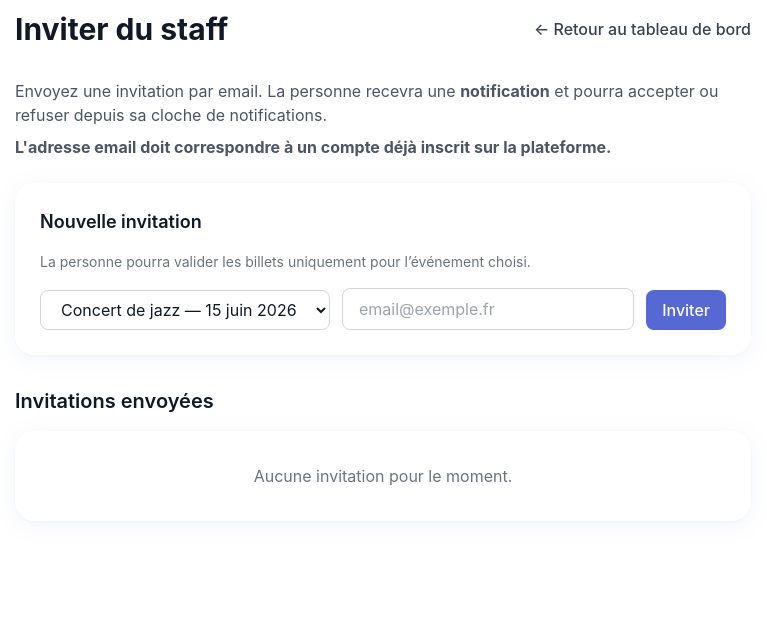
Test case: StaffInvitationsPage - form › pre-selects the first organizer event and submits a new invitation
The image size is (767, 629).
Check: the dropdown named "Événement concerné" is shown, box 40,290 -> 330,330
Type "staff@example.com" into the field named "Adresse email de la personne à inviter" at x=488, y=309, box 342,288 -> 634,330
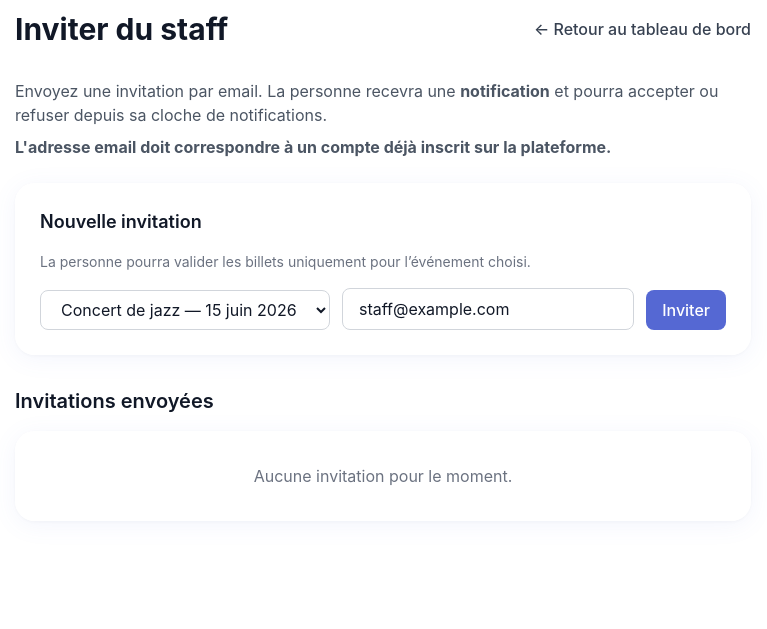
Click the button "Inviter" at x=686, y=310, box 646,290 -> 726,330
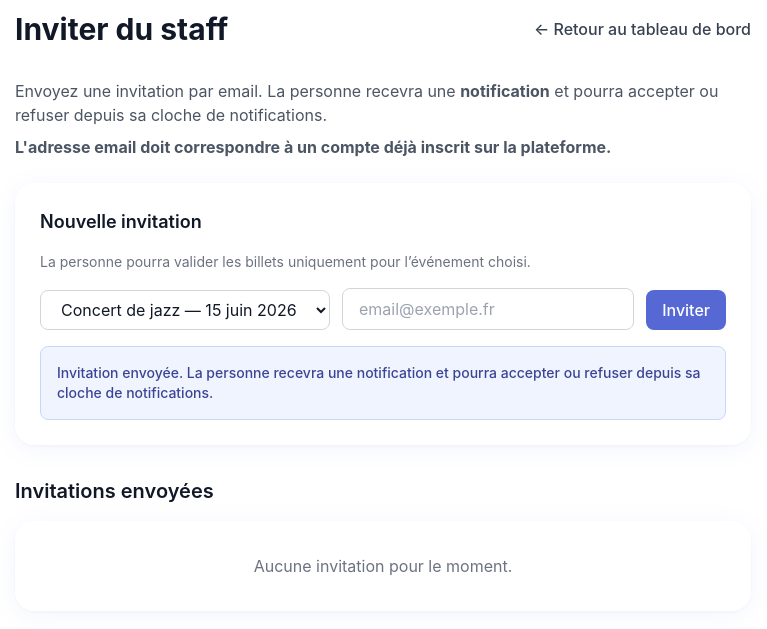
Check: the text "Invitation envoyée. La personne recevra une notification et pourra accepter ou refuser depuis sa cloche de notifications" is shown, box 57,364 -> 701,401
